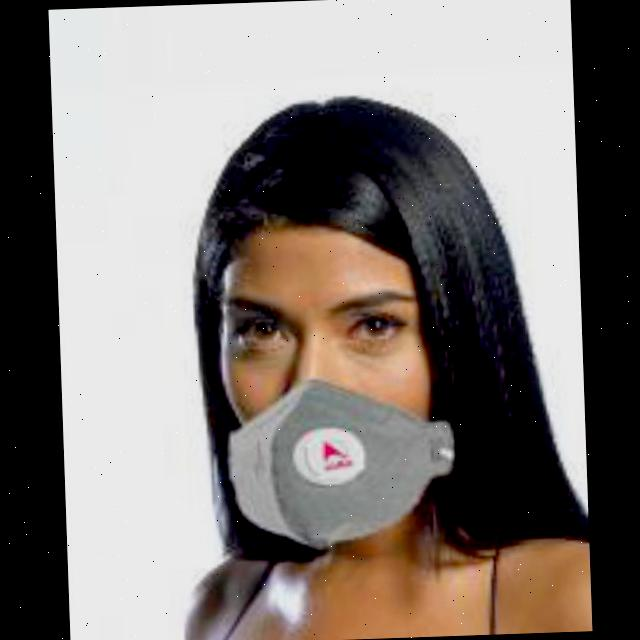suspicion: (166, 120, 494, 536)
